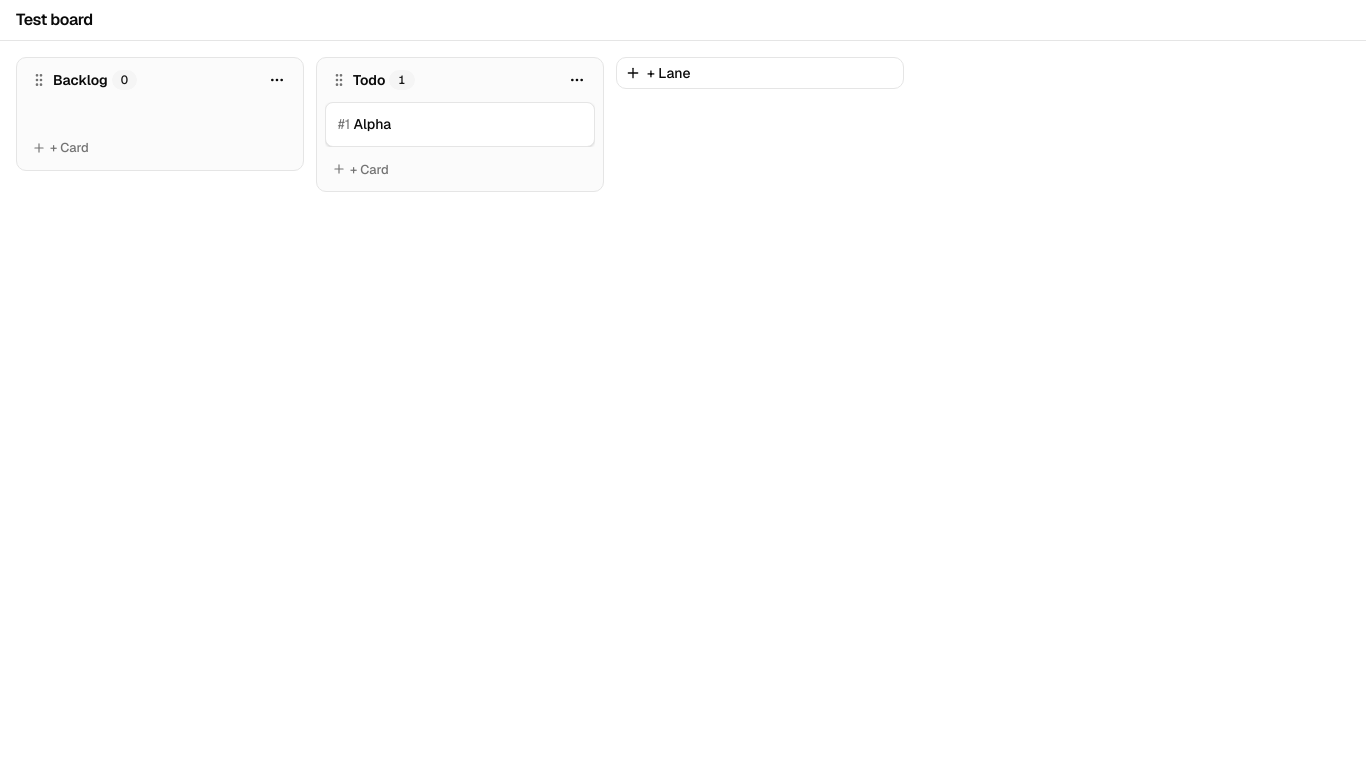
Test: a server that stops answering shows that the change was not saved and keeps the board
Expected: the text "Alpha" is shown, [354,115,391,133]
Click the 1st button "+ Card": point(69, 148) [25,134,295,162]
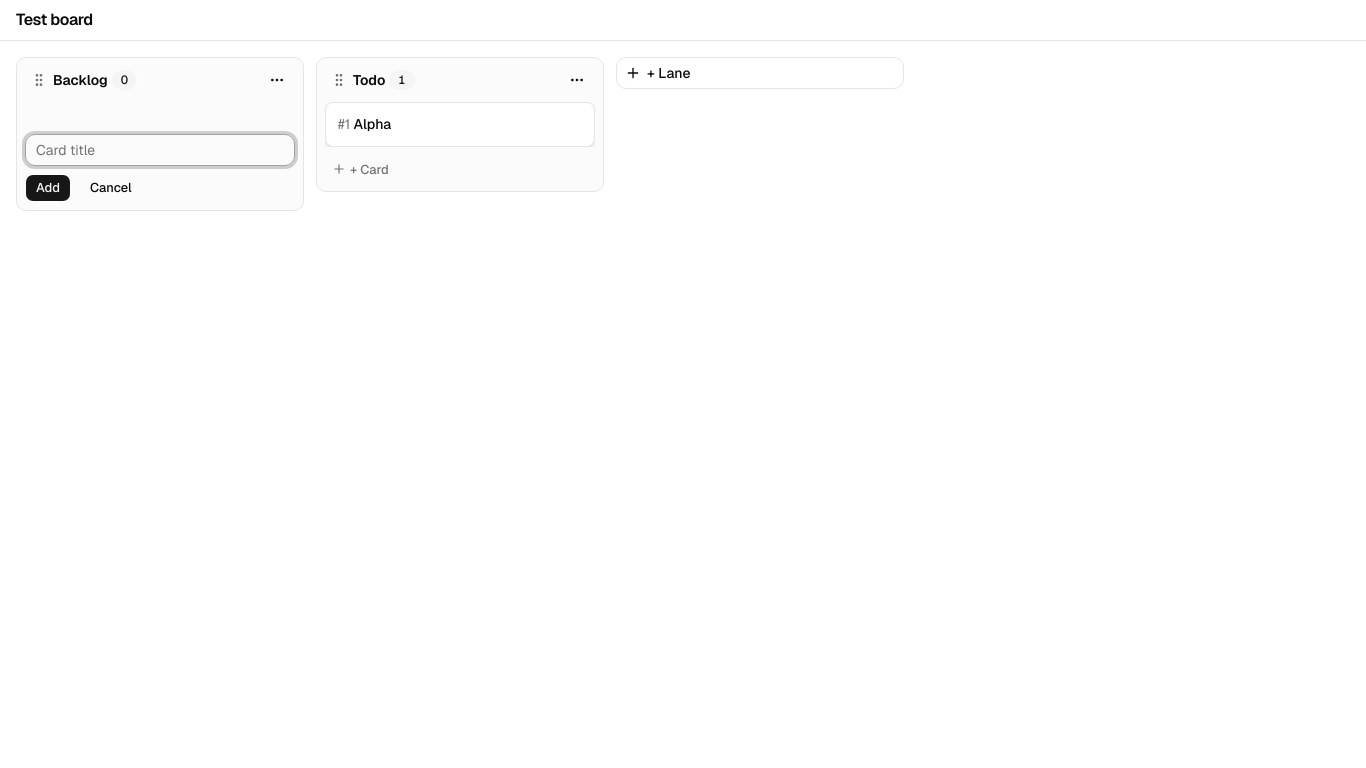
In the field labelled "Card title": point(160, 150) [25,134,295,166], type "Lost"
Then press Enter
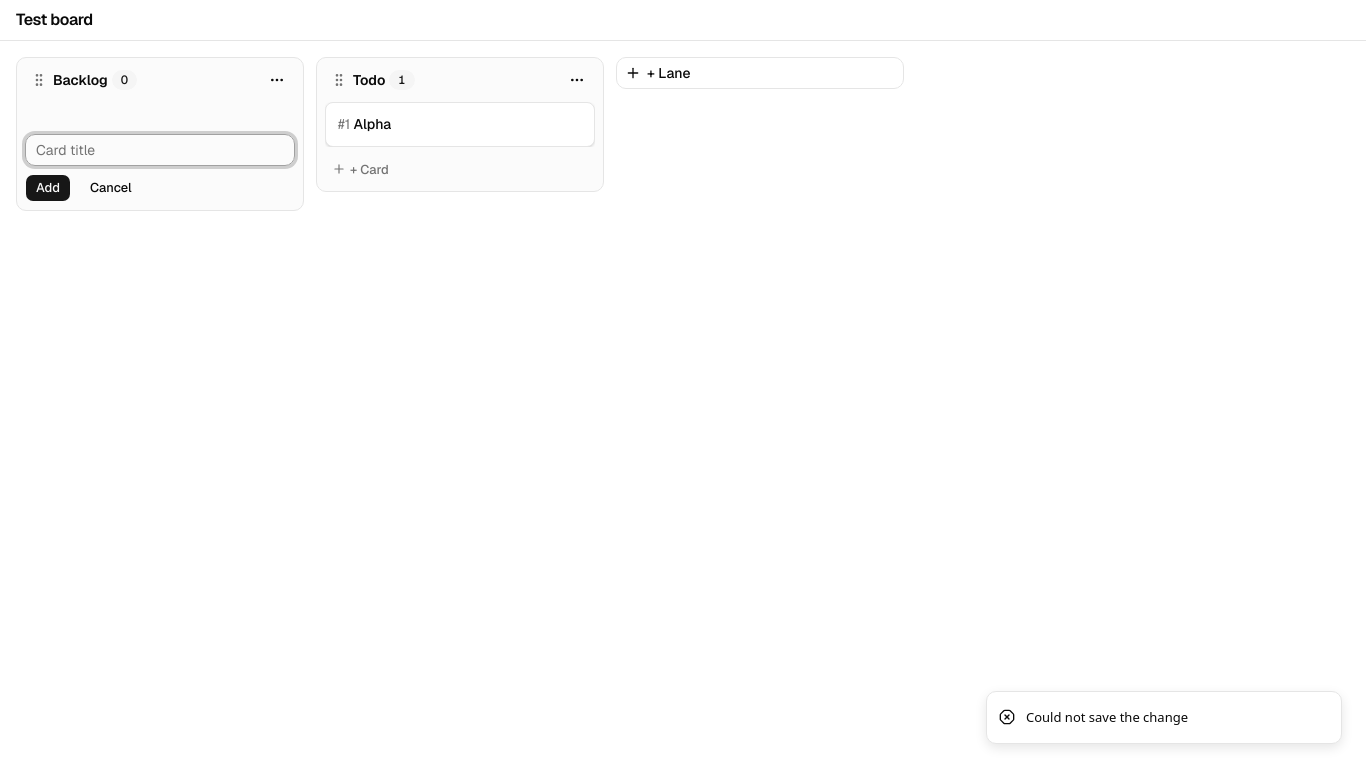
Expected: the text "Alpha" is shown, [354,115,391,133]
Expected: the text "Could not save the change" is shown, [1026,708,1188,727]
